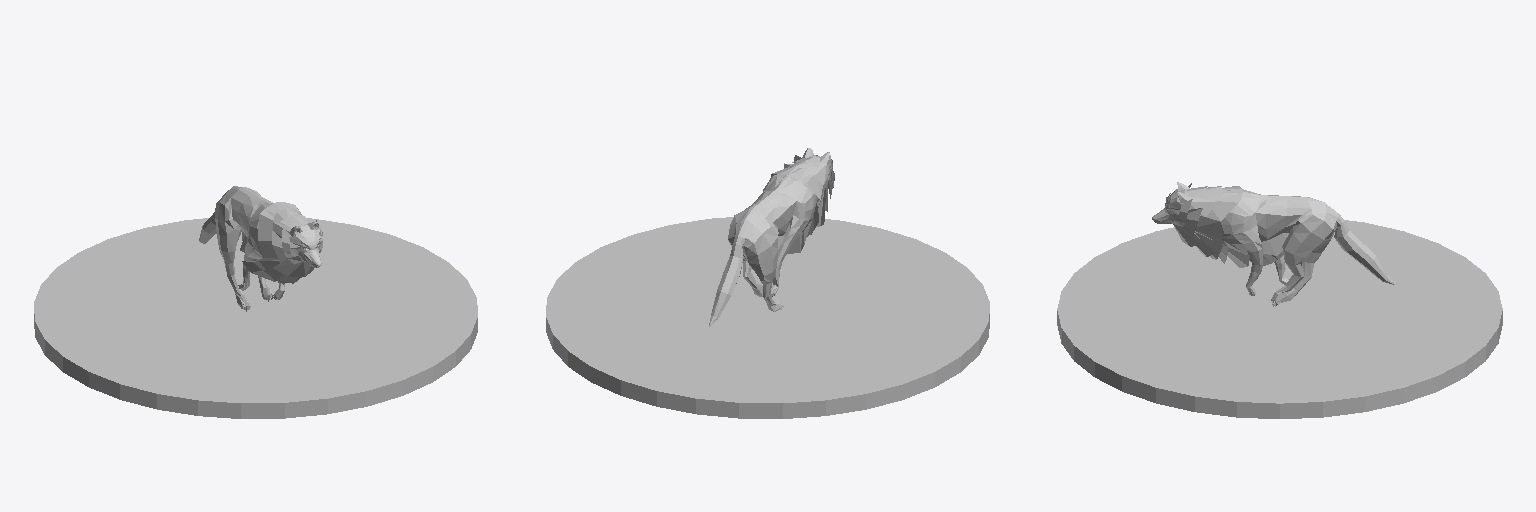
Rendered from Wolf_0009.obj.
3 views of the same model, side by side, from view 1: azimuth 30°, elevation 25°; view 2: azimuth 150°, elevation 25°; view 3: azimuth 270°, elevation 25° (orthographic).
Parts seen in each view (by area): view 1: Circle, Wolf1_Material__wolf_col_tga_0, Wolf2_fur__fella3_jpg_001_0; view 2: Circle, Wolf1_Material__wolf_col_tga_0, Wolf2_fur__fella3_jpg_001_0; view 3: Circle, Wolf1_Material__wolf_col_tga_0, Wolf2_fur__fella3_jpg_001_0.
Part boxes in pixels (bbox=[...]): Circle: bbox=[34, 218, 477, 418]; Wolf1_Material__wolf_col_tga_0: bbox=[199, 186, 321, 309]; Wolf2_fur__fella3_jpg_001_0: bbox=[240, 202, 322, 284]; Circle: bbox=[546, 217, 989, 418]; Wolf1_Material__wolf_col_tga_0: bbox=[709, 148, 830, 326]; Wolf2_fur__fella3_jpg_001_0: bbox=[771, 155, 834, 253]; Circle: bbox=[1057, 220, 1502, 418]; Wolf1_Material__wolf_col_tga_0: bbox=[1152, 182, 1394, 305]; Wolf2_fur__fella3_jpg_001_0: bbox=[1165, 183, 1289, 267].
Size of the model in its own units: 1.69 by 0.5793 by 1.69.